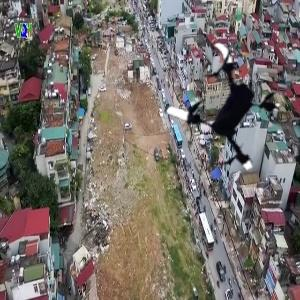drone: (154, 40, 290, 176)
